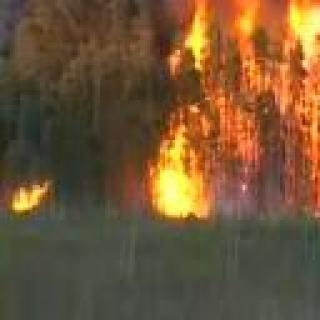fire: (147, 0, 320, 218), (6, 175, 51, 219)
